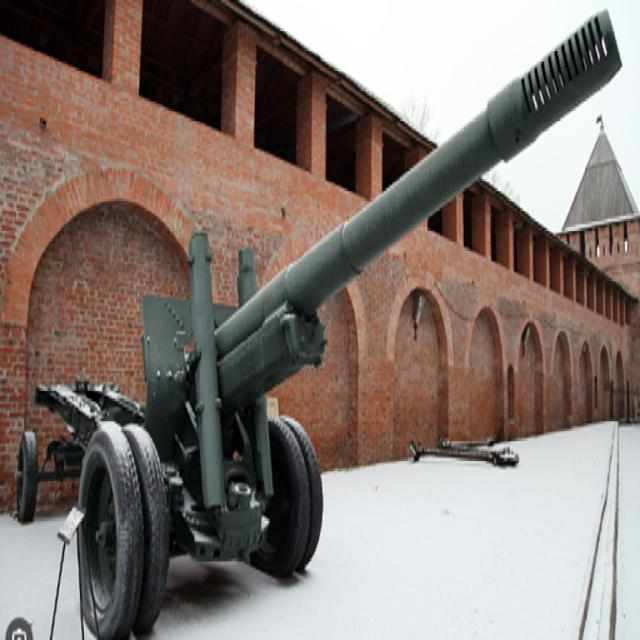ART: (15, 8, 621, 638)
